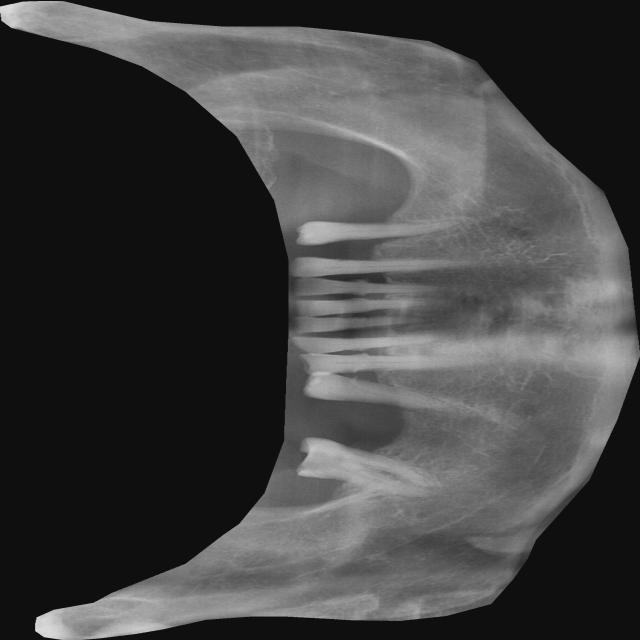mandibula: (0, 0, 640, 640)
